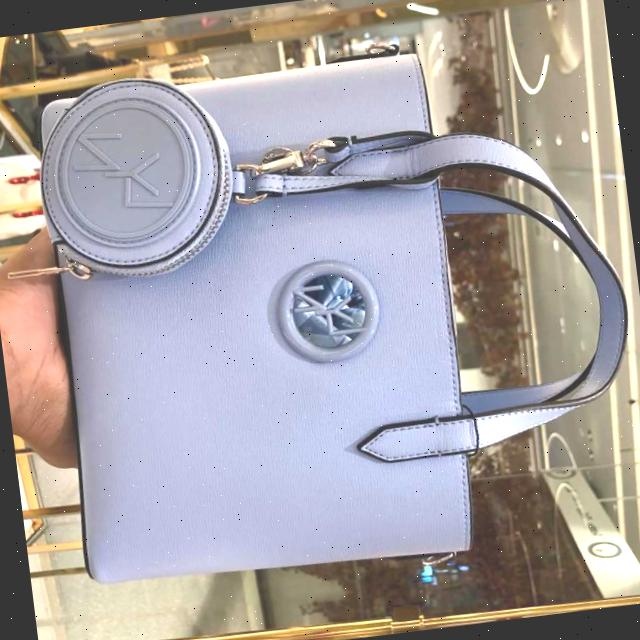Handbag: (17, 41, 520, 612)
